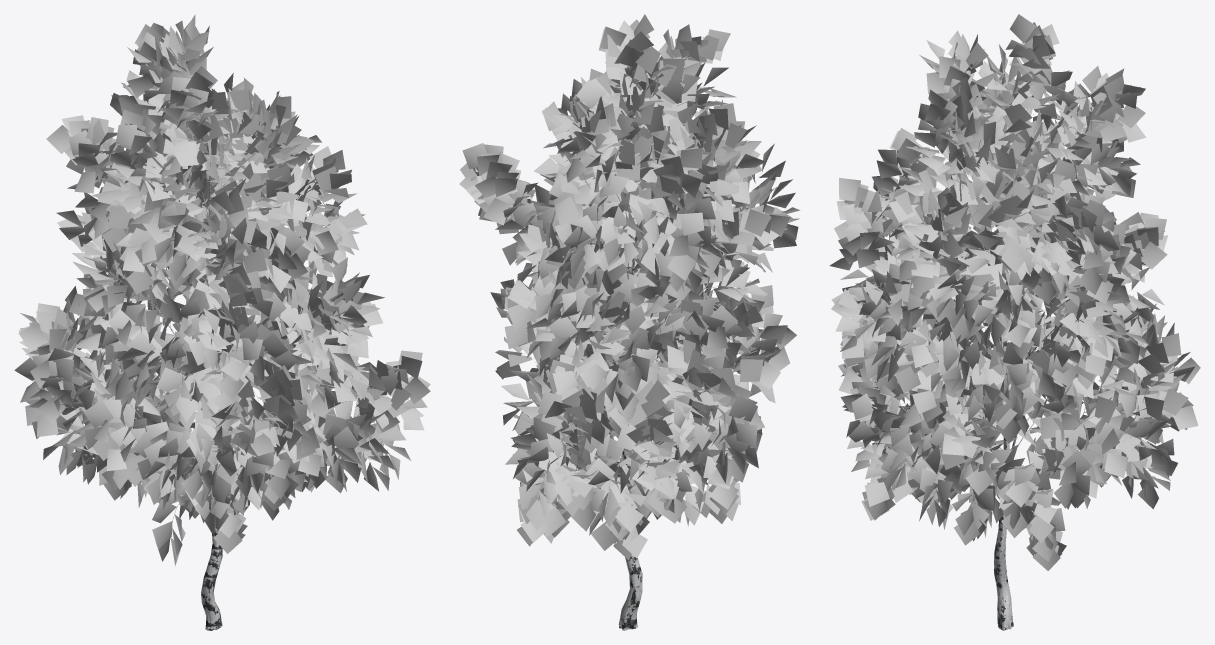
Rendered from 00734 _Birch 03 2.FBX.
3 views of the same model, side by side, from view 1: azimuth 30°, elevation 25°; view 2: azimuth 150°, elevation 25°; view 3: azimuth 270°, elevation 25° (orthographic). The views are drawn at different scales.
Visible parts, largest first — view 1: 00734 _Birch 03 2; view 2: 00734 _Birch 03 2; view 3: 00734 _Birch 03 2.
Boxes of the visible parts, x1,y1,x2,y2 form: 00734 _Birch 03 2: (14, 14, 430, 630); 00734 _Birch 03 2: (459, 14, 800, 630); 00734 _Birch 03 2: (829, 14, 1200, 630).
Size of the model in its own units: 3.93 by 7.49 by 4.2.
